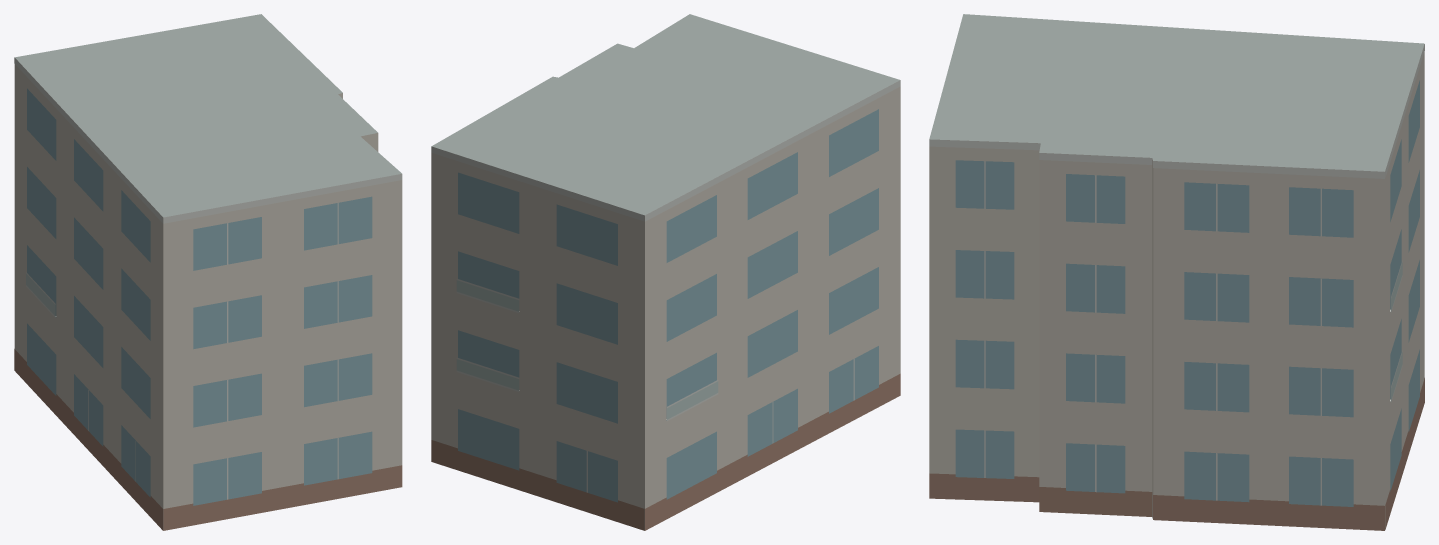
The model's file is survey-upis-32642817.glb.
3 renders of one model, left to right at view 1: azimuth 30°, elevation 25°; view 2: azimuth 150°, elevation 25°; view 3: azimuth 270°, elevation 25°, orthographic. The views are drawn at different scales.
Visible parts, largest first — view 1: survey-upis-32642817.tmp; view 2: survey-upis-32642817.tmp; view 3: survey-upis-32642817.tmp.
Boxes of the visible parts, x1=… form: survey-upis-32642817.tmp: x1=14, y1=14, x2=402, y2=530; survey-upis-32642817.tmp: x1=431, y1=14, x2=900, y2=530; survey-upis-32642817.tmp: x1=929, y1=14, x2=1424, y2=530.
Bounding box in the file's own units: 11.51 × 12.2 × 15.27.
